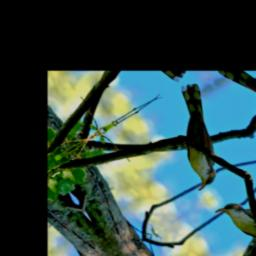Cuckoo: (140, 80, 253, 192)
